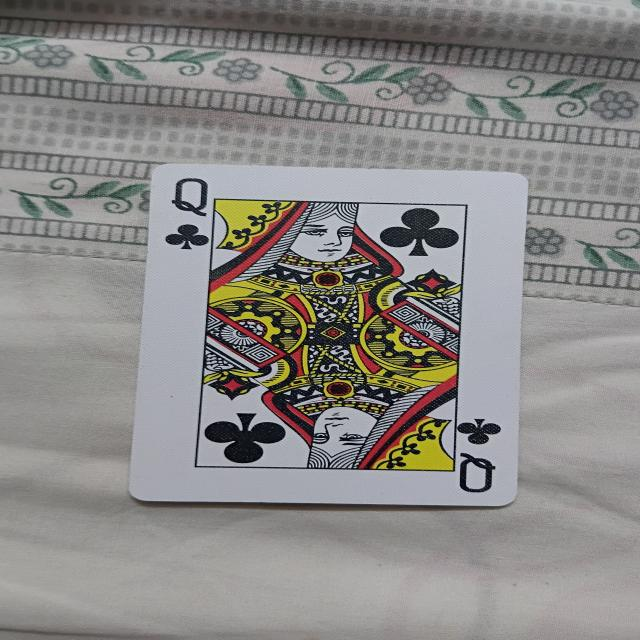QC: (123, 166, 524, 507)
